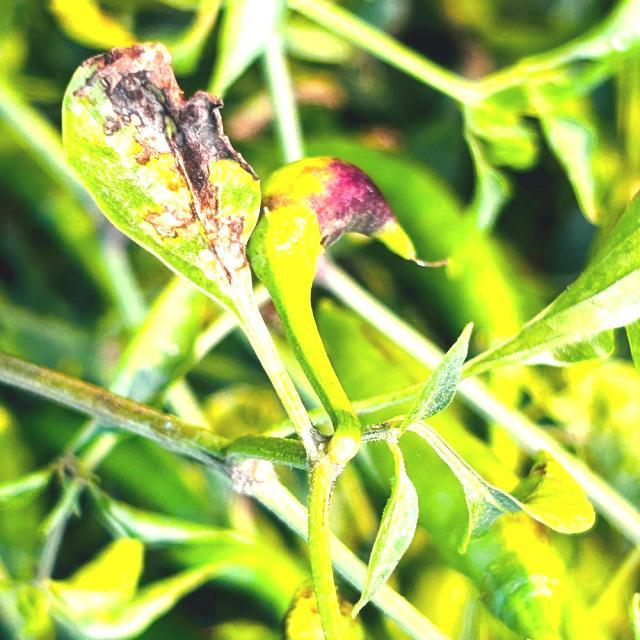Bercak Daun Serkospora: (58, 44, 270, 316)
Busuk Buah Antraknosa: (250, 145, 425, 316)
